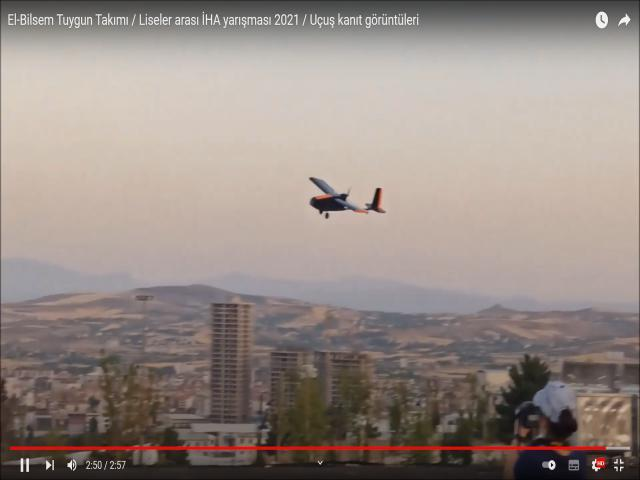insansiz-hava-araci: (309, 177, 387, 218)
